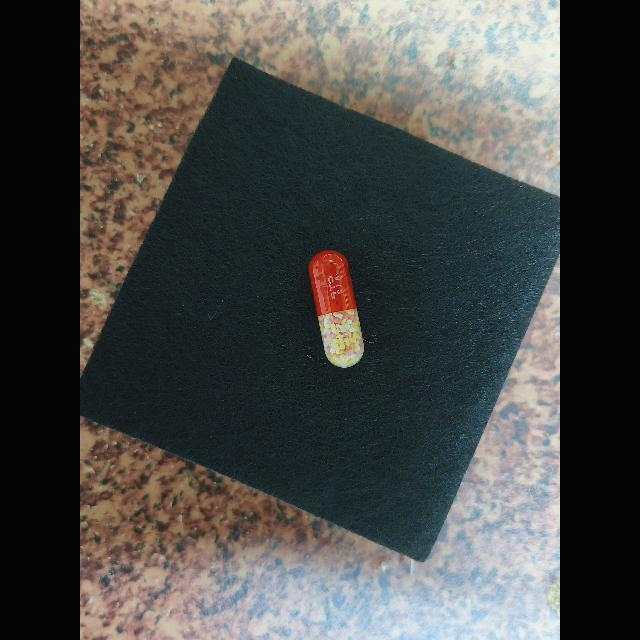Intact Capsule: (308, 250, 364, 368)
